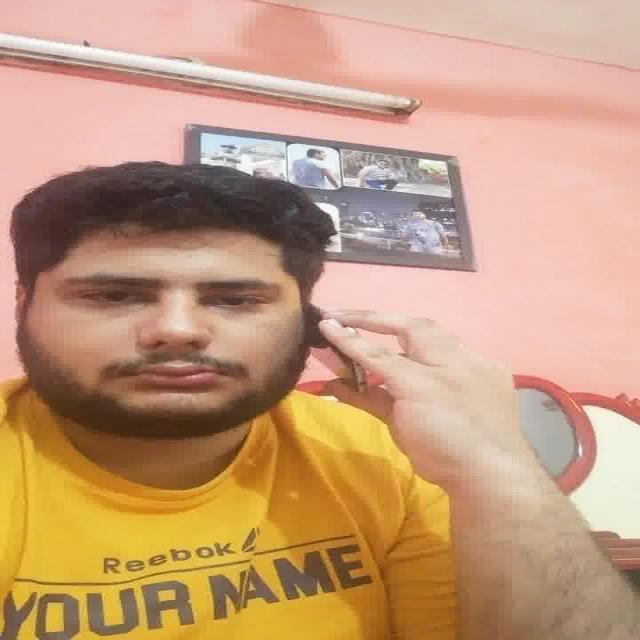Phone: (311, 302, 371, 399)
